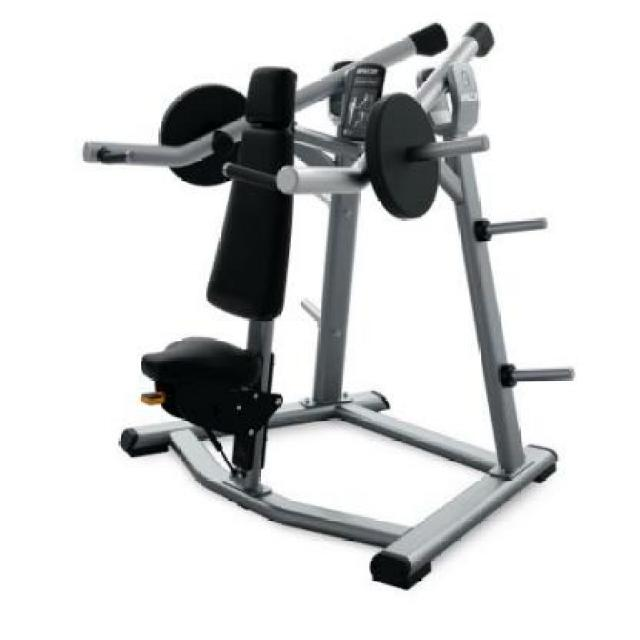shoulder press machine: (74, 9, 583, 600)
